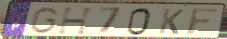0: (125, 7, 154, 36)
7: (98, 6, 123, 36)
F: (184, 7, 223, 37)
G: (28, 6, 61, 35)
H: (56, 6, 96, 36)
K: (157, 8, 186, 36)
